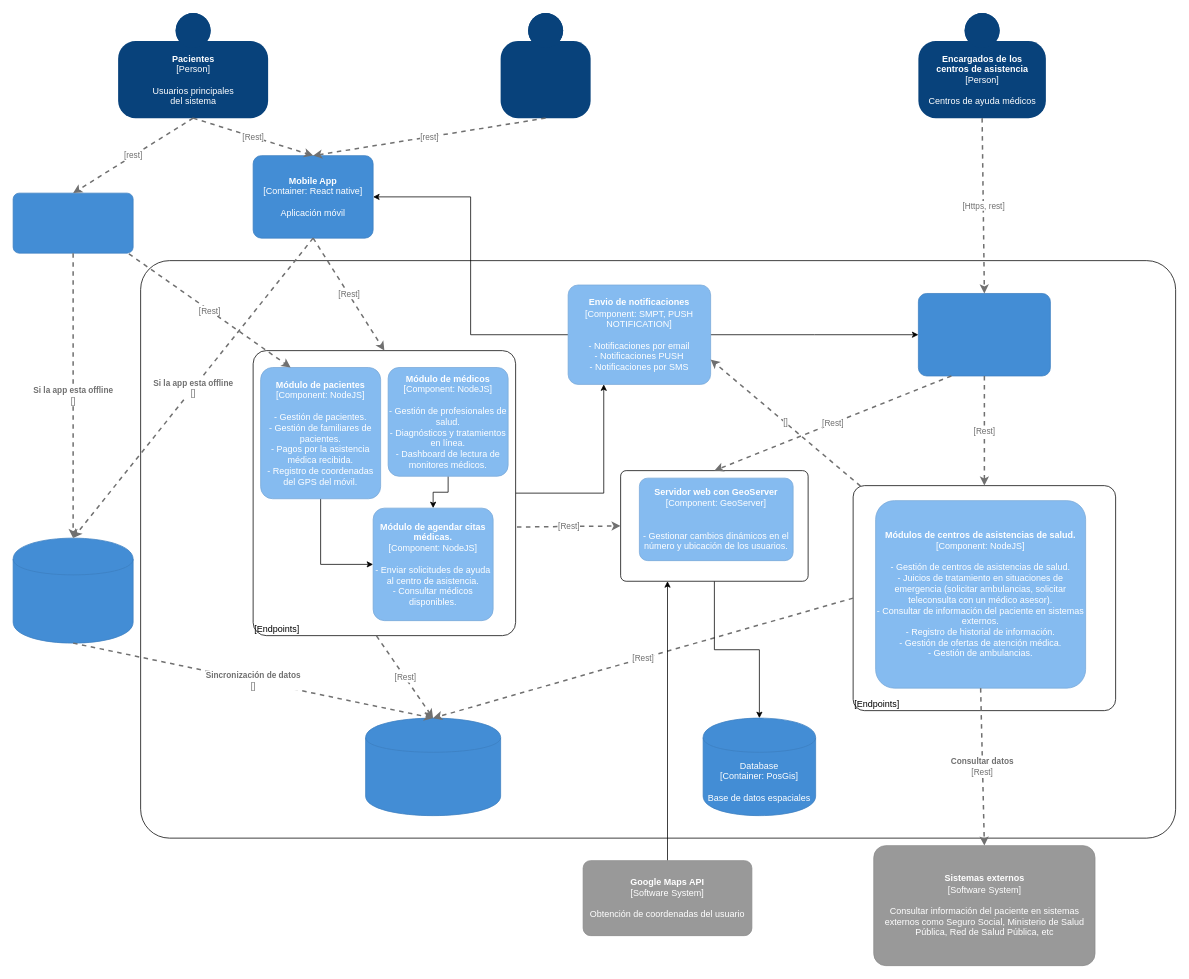
The diagram is 1189 pixels wide and 979 high, and some of its shapes have lost their labels. Each missing label, with the box of its shape:
[Infraestructuras de datos espaciales]: (620, 470, 808, 581)
Amazon Web services [Amazon]: (140, 260, 1176, 838)
Backoffice web [Container: Ruby On Rails] Aplicación web: (918, 293, 1050, 376)
Database [Container: Amazon DinamoDB] Base de datos en la nube: (365, 717, 501, 816)
Database [Container: Redis] Base de datos para cache offline: (12, 537, 133, 643)
Dispositovos IOT [Container: Arduino]: (12, 192, 133, 253)
Médicos [Person] Profesionales de salud: (500, 13, 590, 118)
